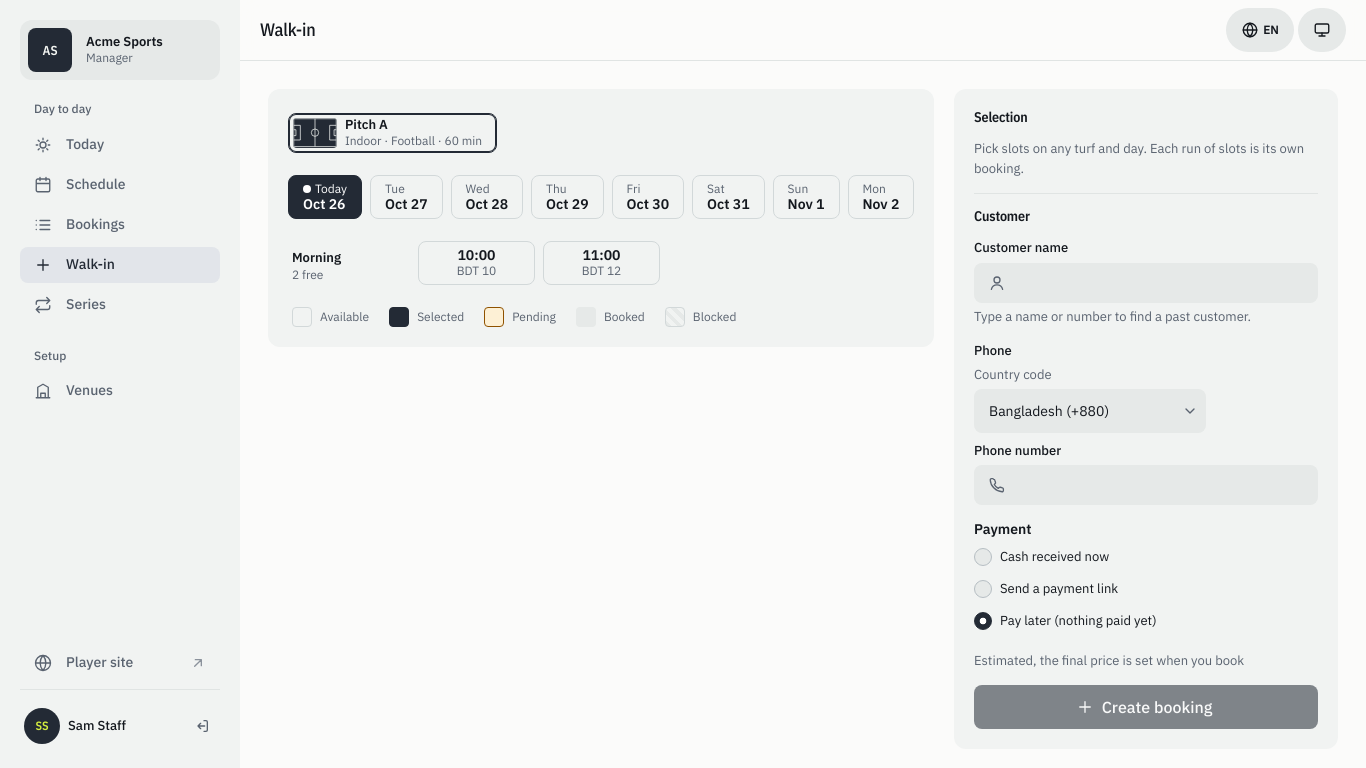
Walk-in page › walk-in slot_taken keeps the form and refetches slots
Click the button "10:00 BDT 10": (476, 263) left=418, top=241, right=535, bottom=285
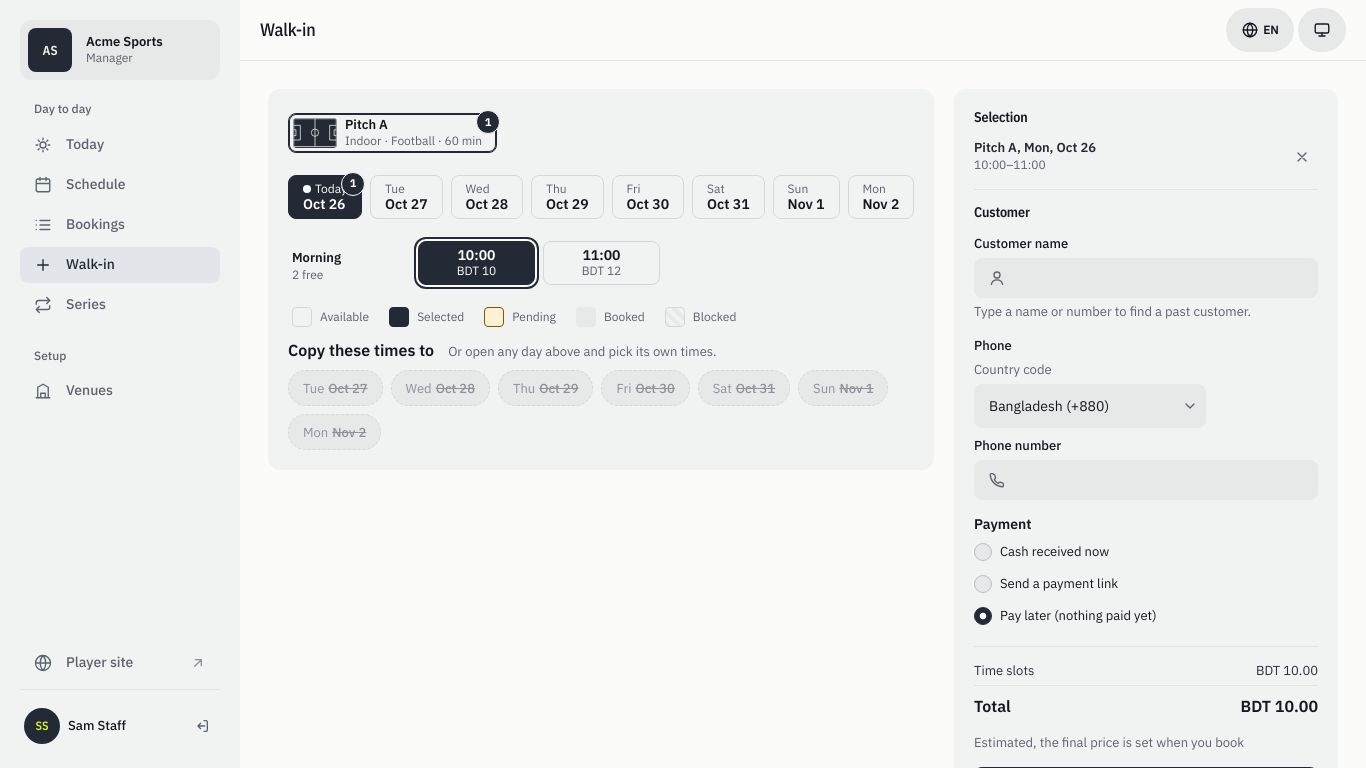
In the dropdown labelled "Customer name": (1146, 278) left=974, top=258, right=1318, bottom=298, type "Ada Walker"
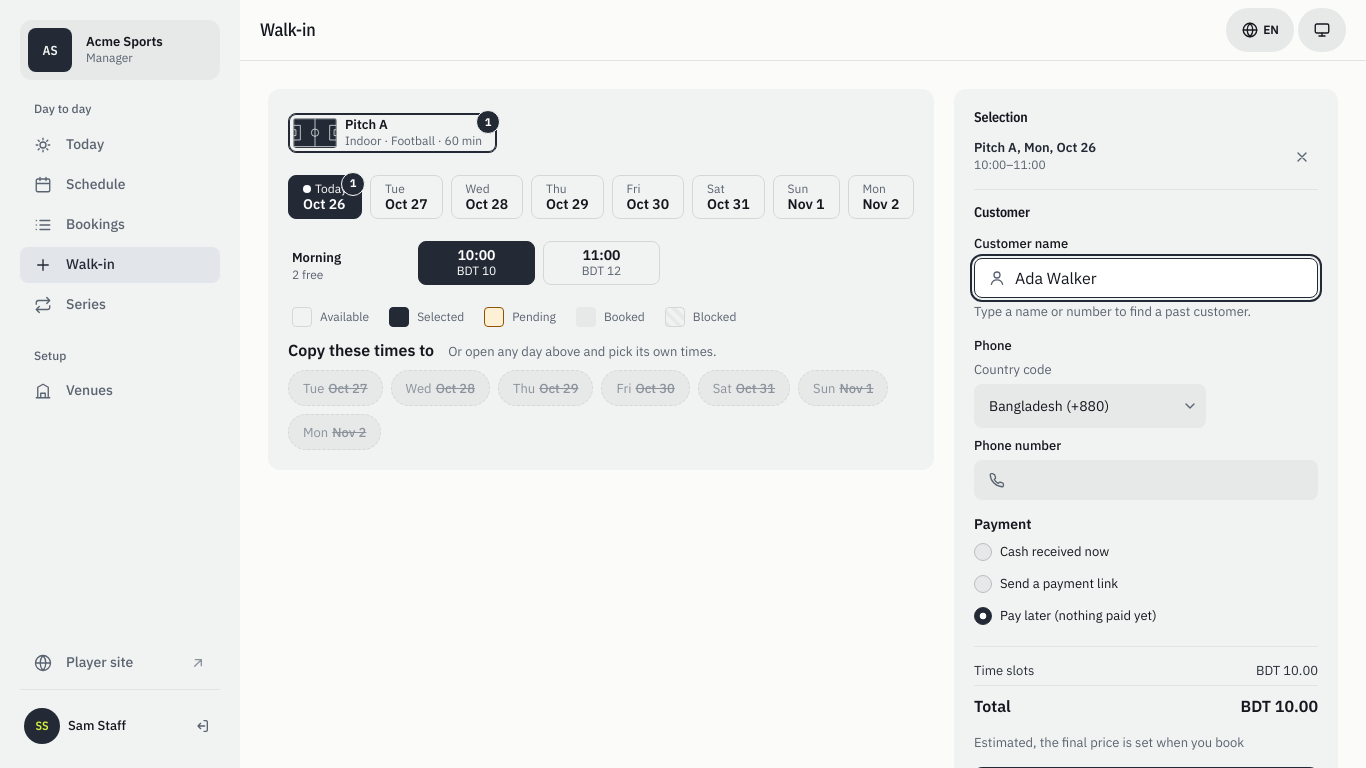
In the field labelled "Phone number": (1146, 480) left=974, top=460, right=1318, bottom=500, type "1712345678"
(page scrolled)
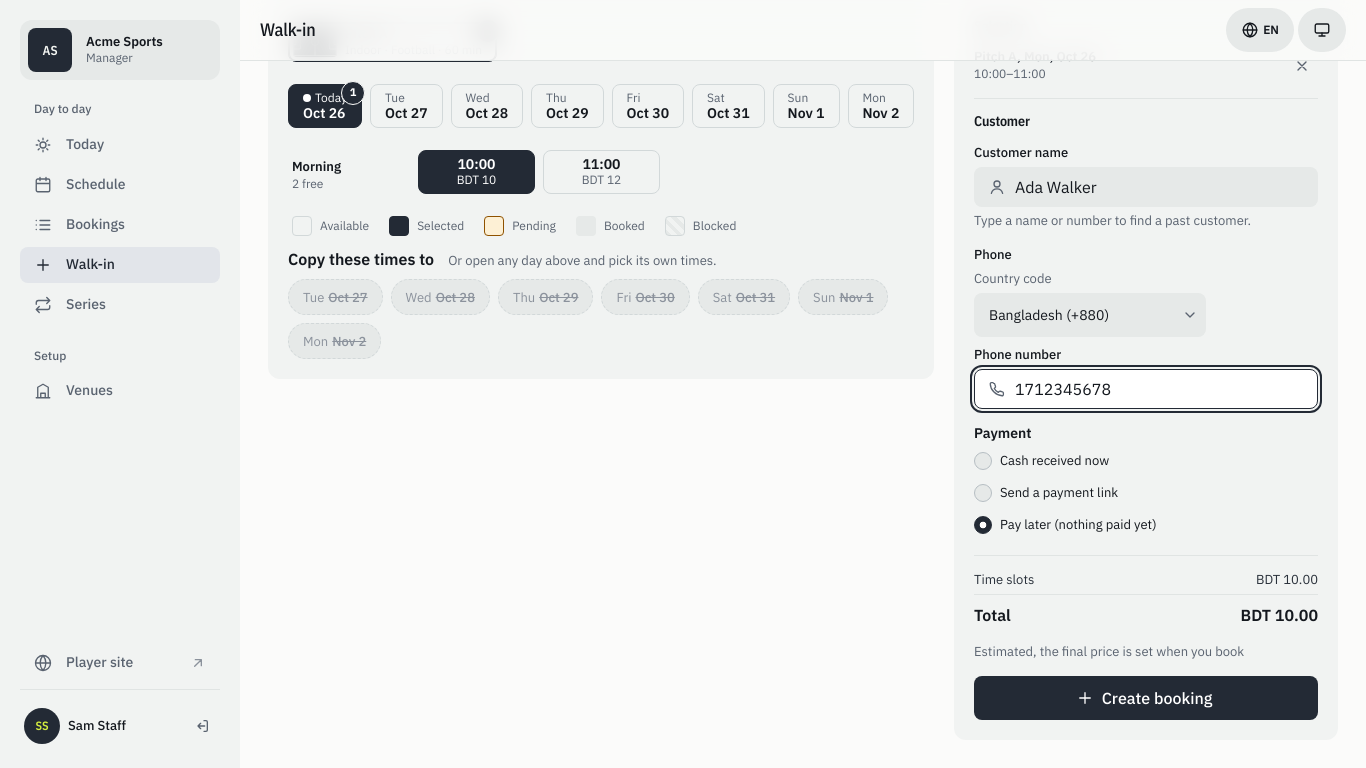
Click the button "Create booking": (1146, 698) left=974, top=676, right=1318, bottom=720
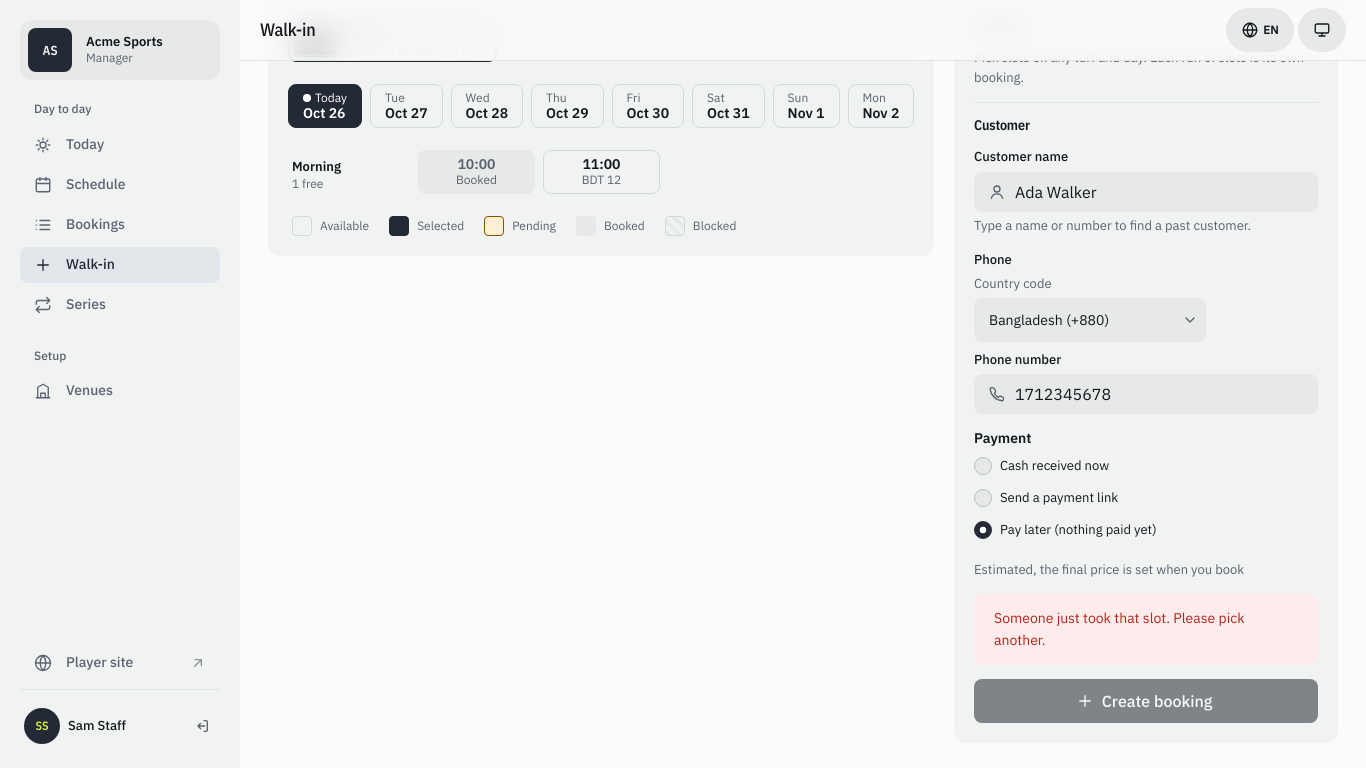
Expected: the text "Someone just took that slot. Please pick another." is shown, left=974, top=594, right=1318, bottom=665
Expected: the button "10:00 Booked" is disabled, left=418, top=150, right=535, bottom=194
